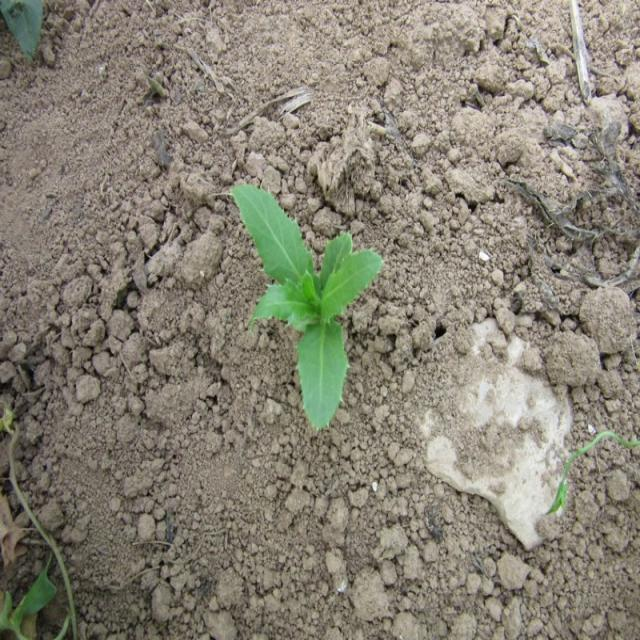cs: (228, 171, 388, 438)
